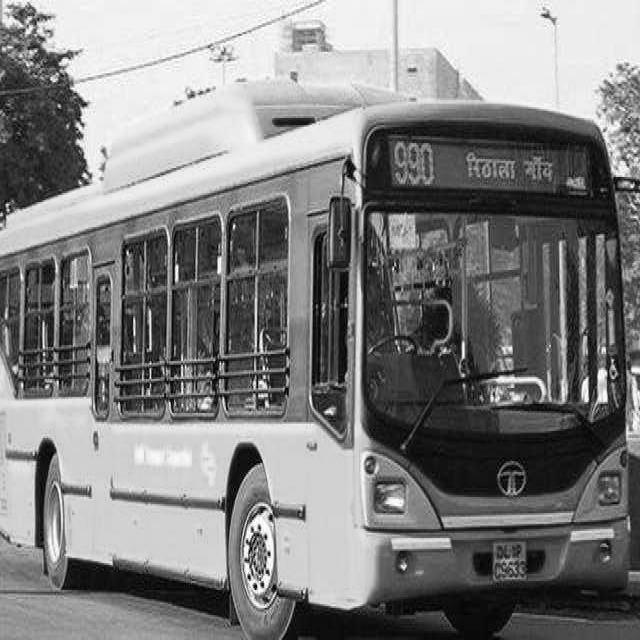Bus: (0, 80, 630, 636)
